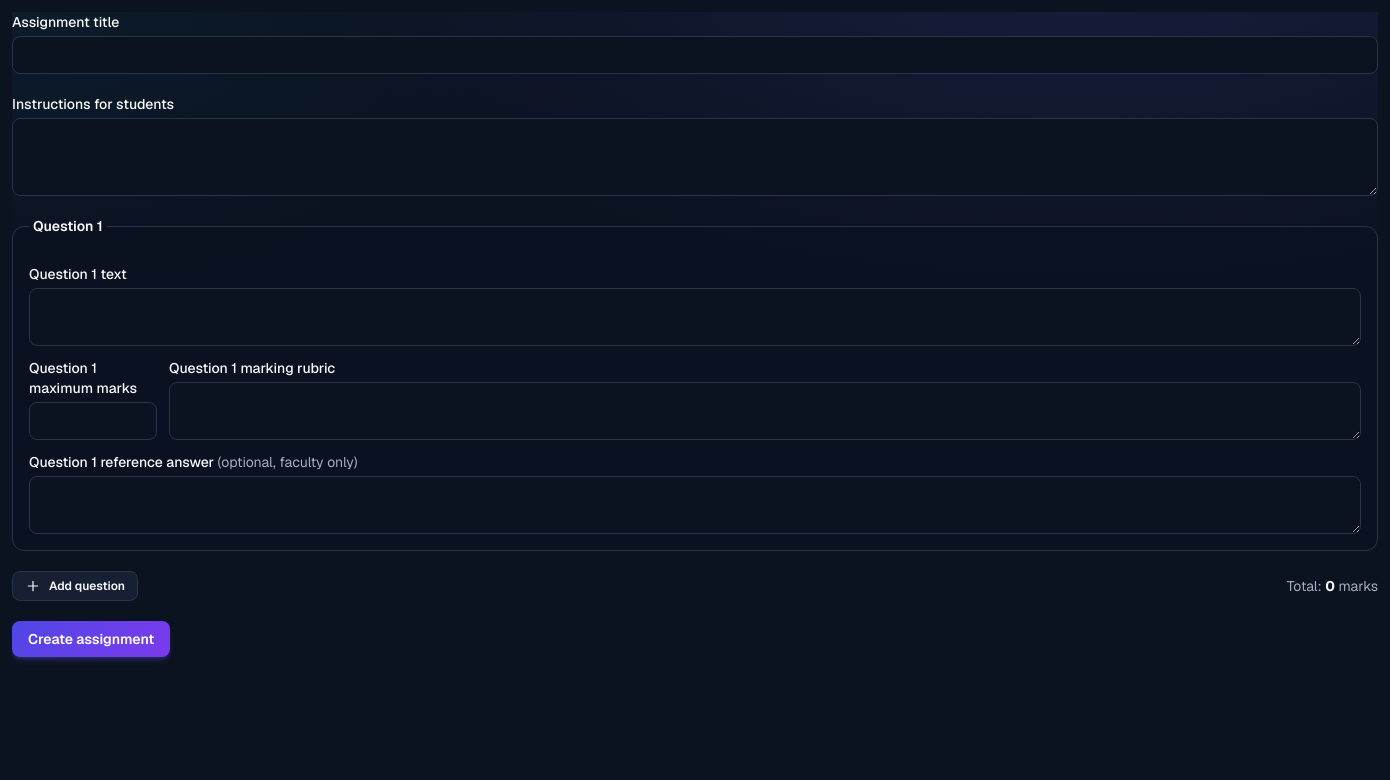
AssignmentForm › shows the server's message and field errors, and keeps what was typed
In the field labelled "Assignment title": (695, 55) [12, 36, 1378, 74], type "Loops and arrays"
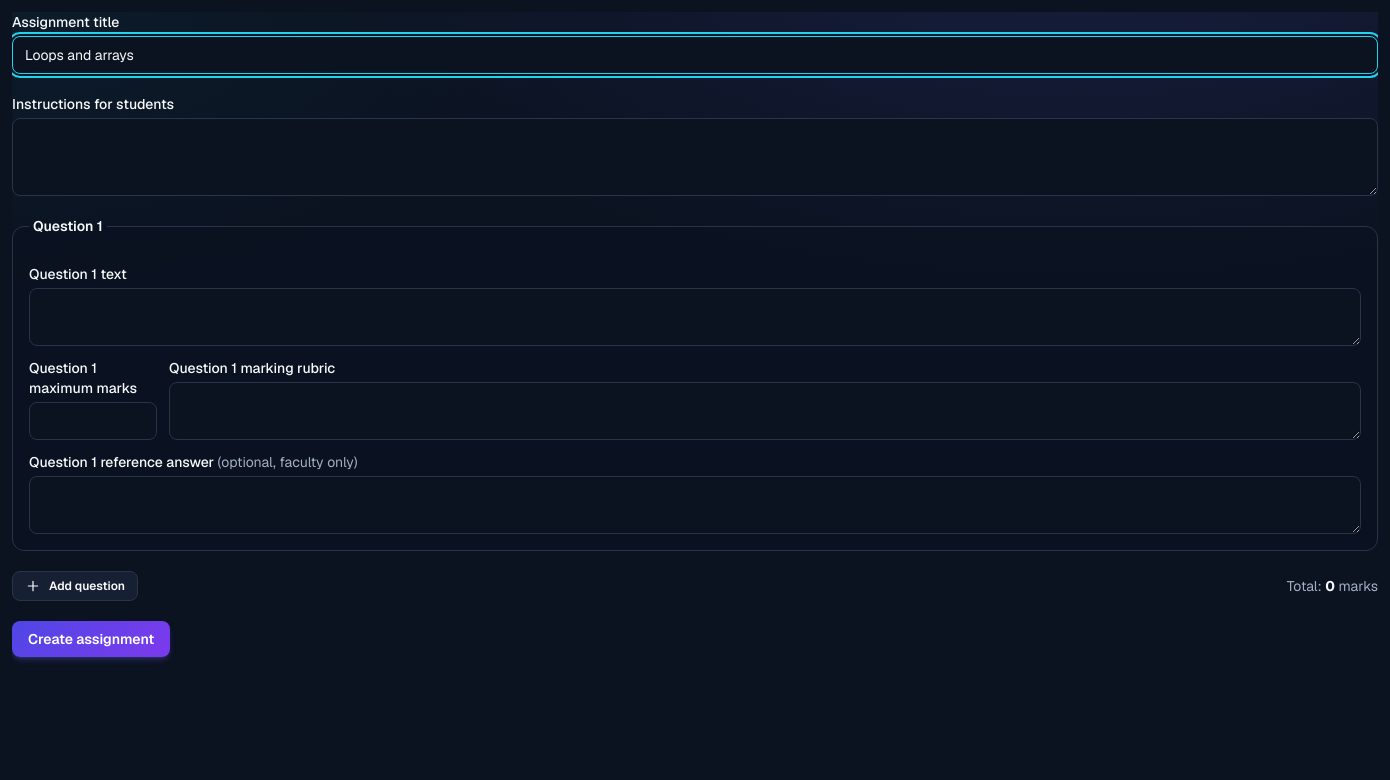
In the text box labelled "Instructions for students": (695, 157) [12, 118, 1378, 196], type "Answer every question."
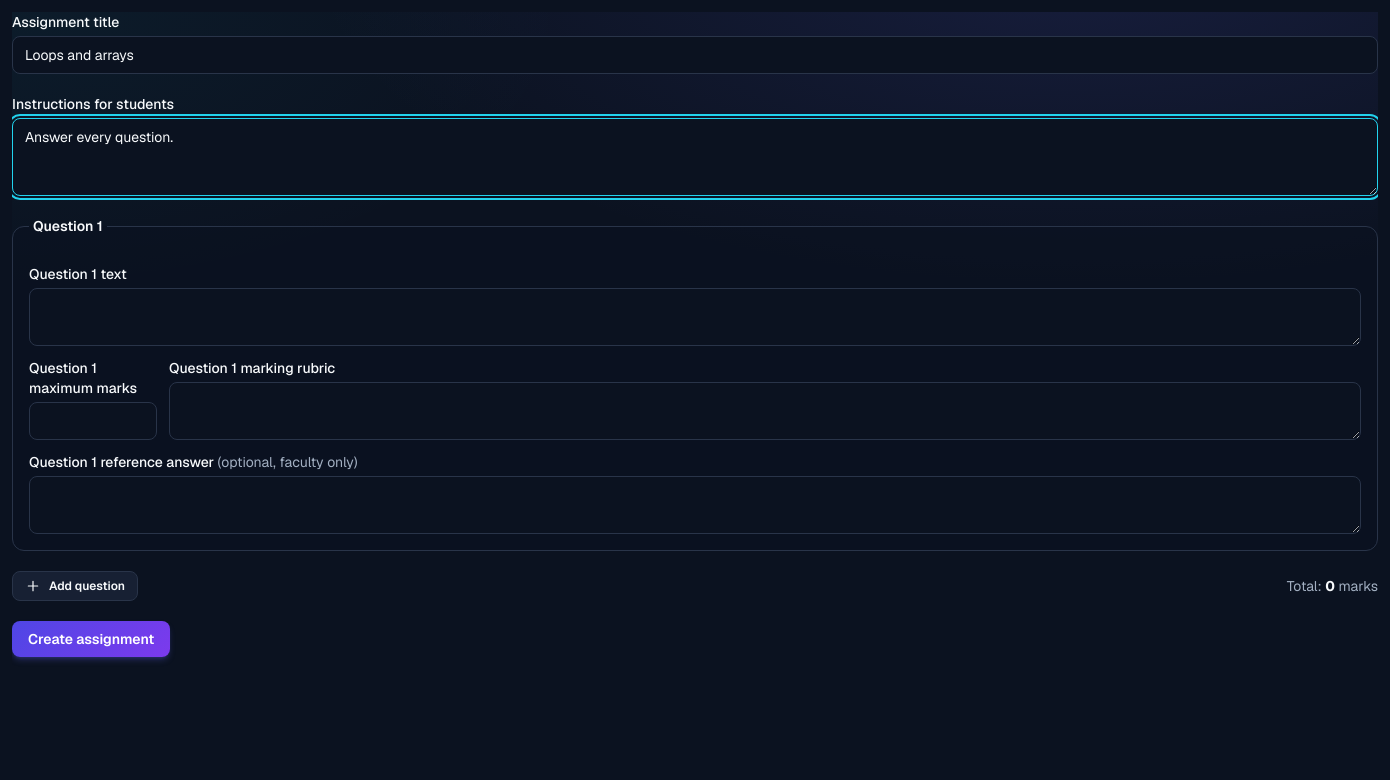
In the text box labelled "Question 1 text": (695, 317) [29, 288, 1361, 346], type "What does a loop do?"
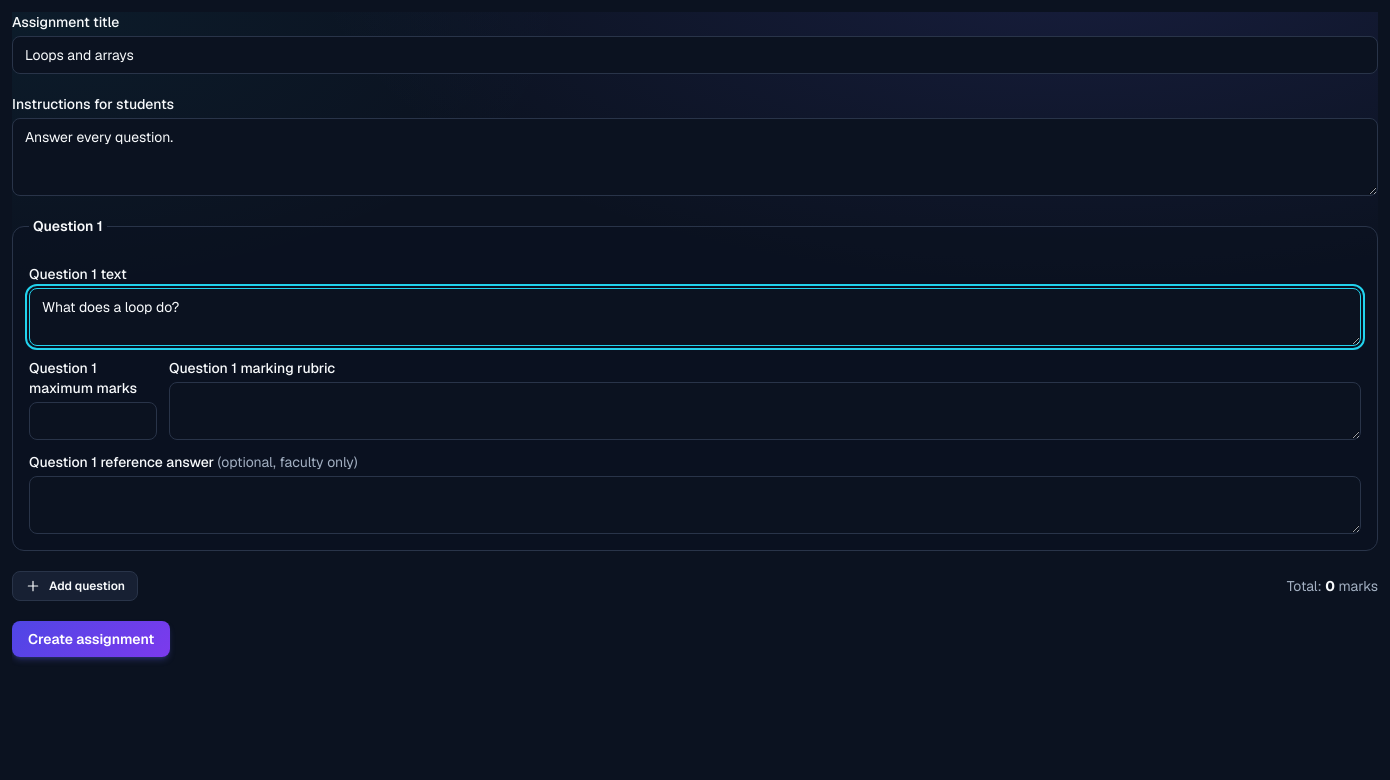
In the field labelled "Question 1 maximum marks": (93, 421) [29, 402, 157, 440], type "5"
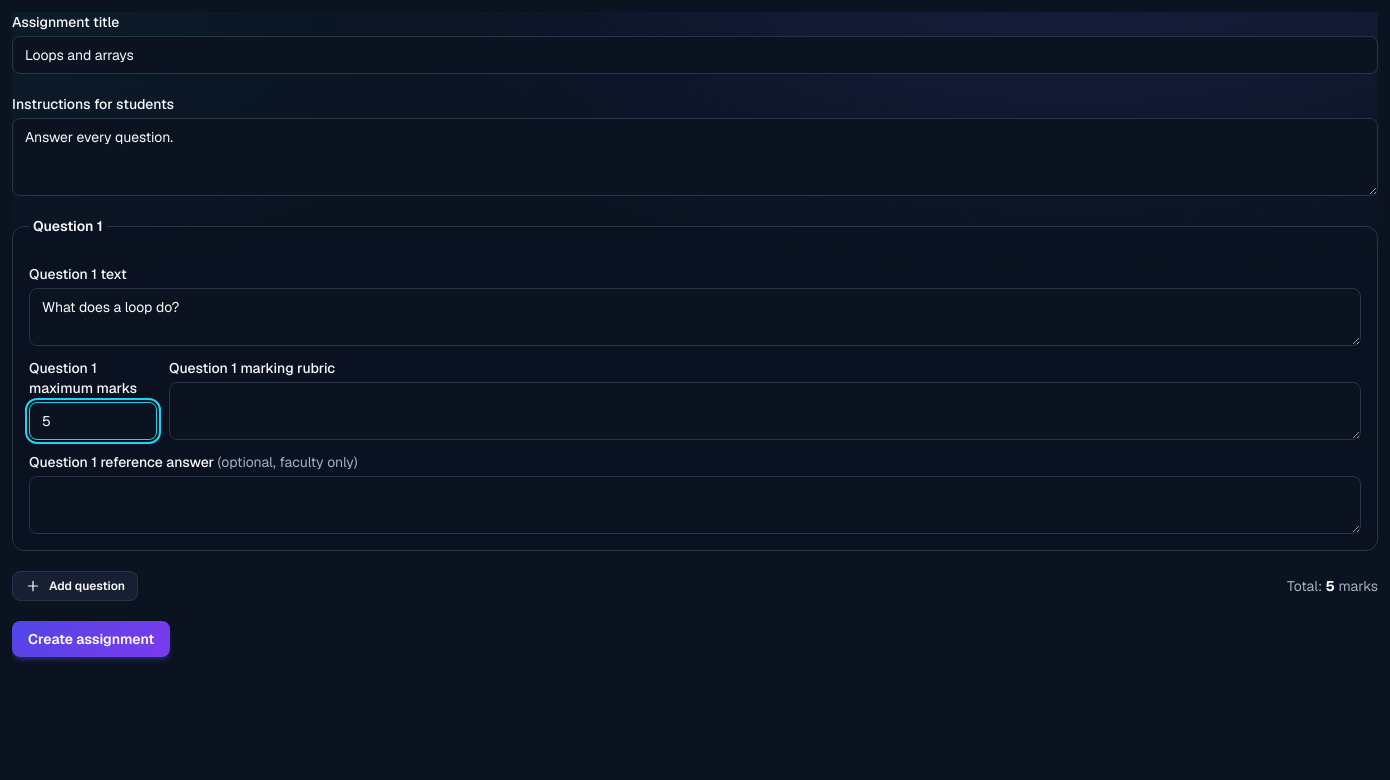
In the text box labelled "Question 1 marking rubric": (765, 411) [169, 382, 1361, 440], type "Mentions repetition."
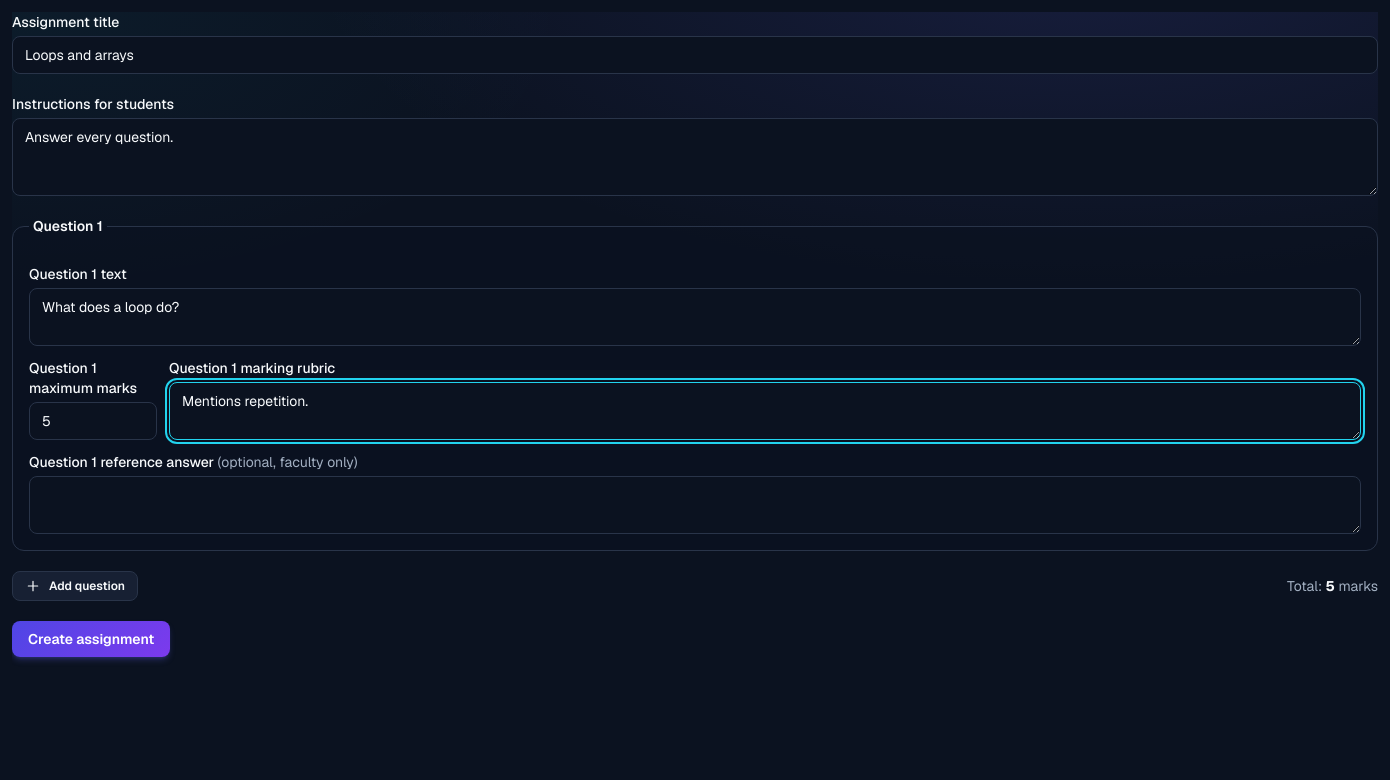
Click the button "Create assignment": (91, 639) [12, 621, 170, 657]
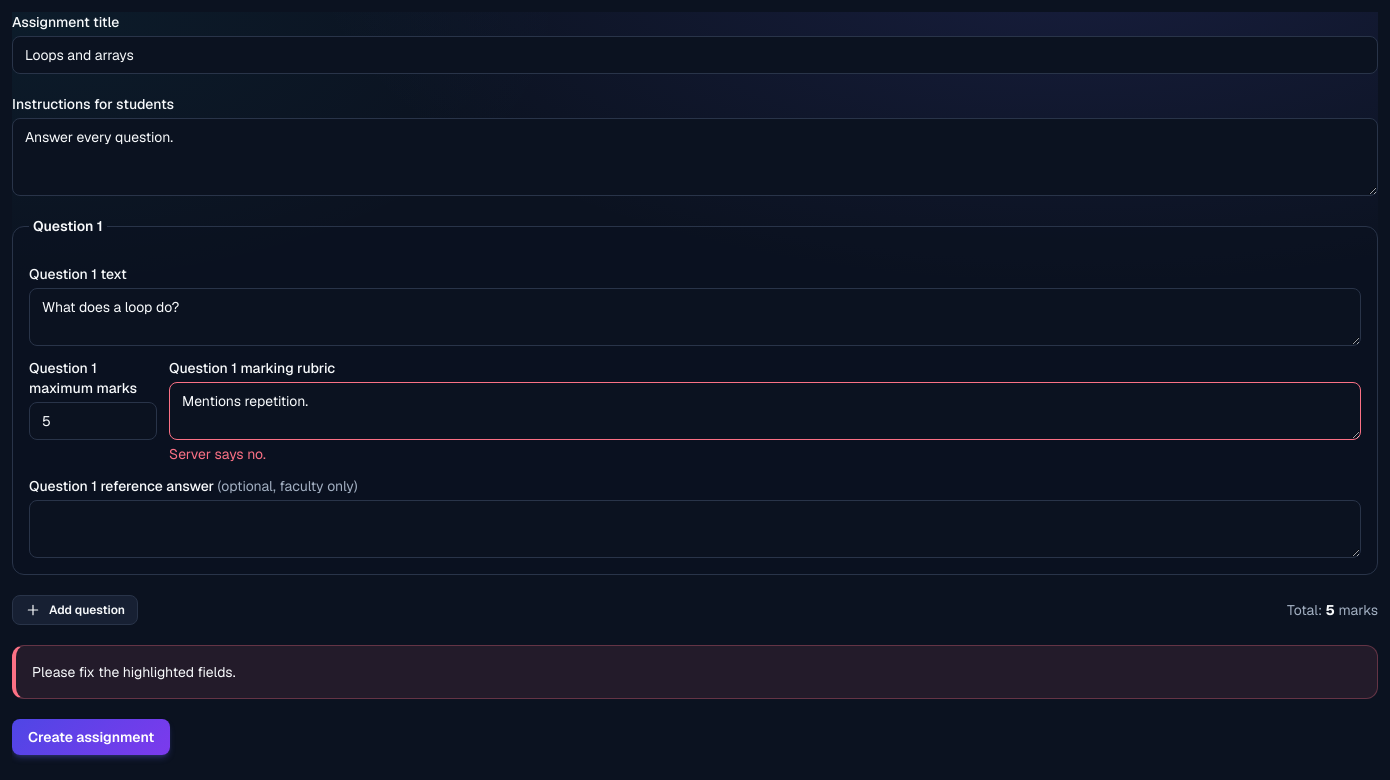
Expected: the text "Please fix the highlighted fields." is shown, [12, 645, 1378, 699]
Expected: the text "Server says no." is shown, [169, 445, 266, 463]
